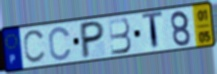8: (170, 9, 192, 48)
B: (107, 17, 133, 57)
C: (48, 26, 74, 63), (22, 28, 47, 65)
P: (80, 19, 106, 61)
T: (141, 10, 164, 52)
